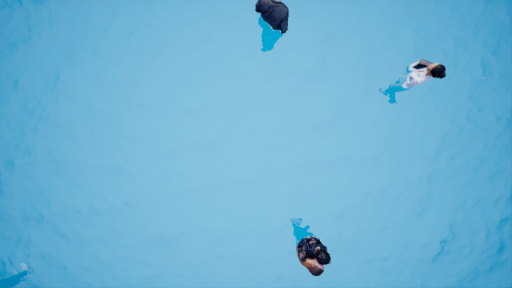person: (381, 57, 452, 111), (287, 216, 337, 275), (250, 1, 295, 57)
